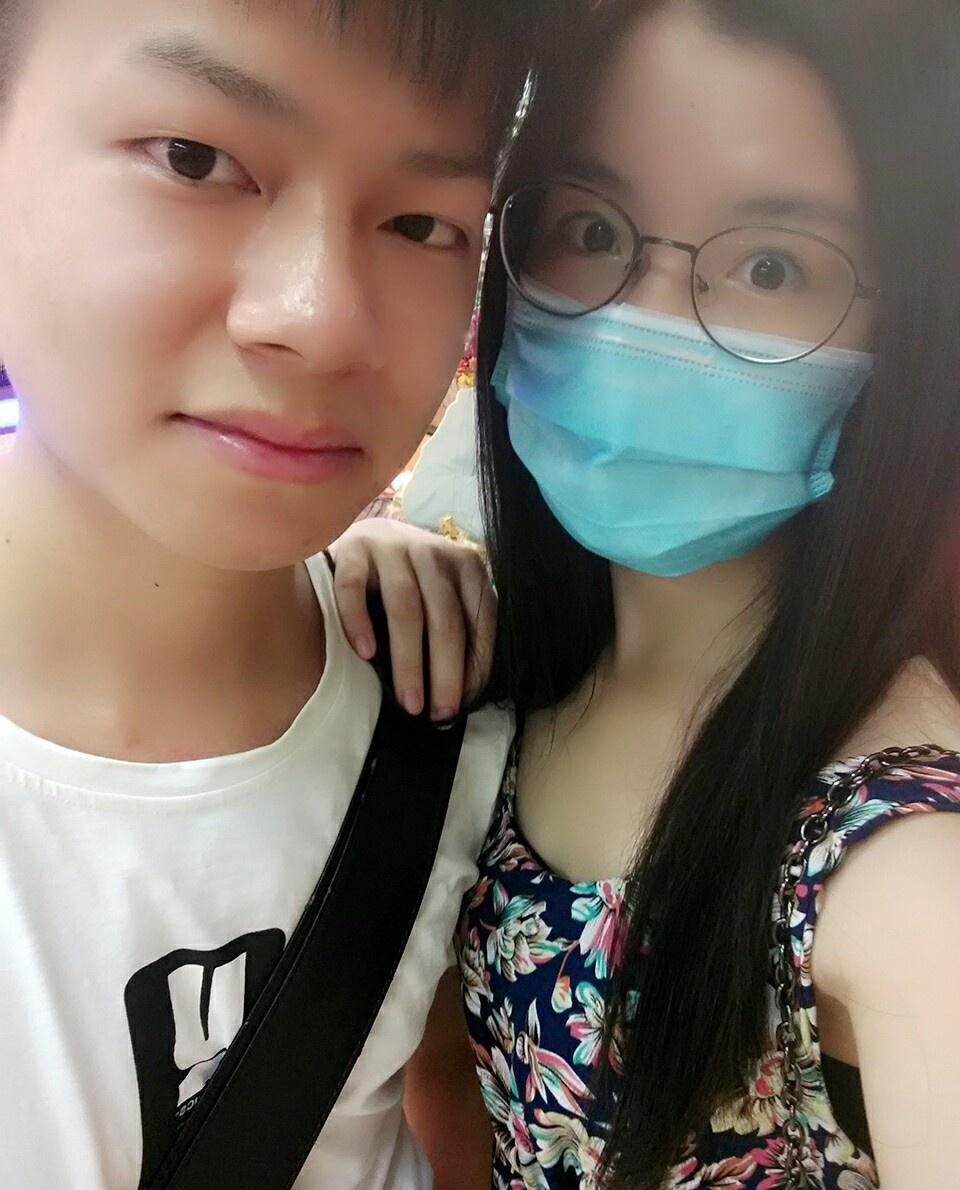NONE: (17, 46, 482, 561)
OK: (495, 138, 915, 558)
